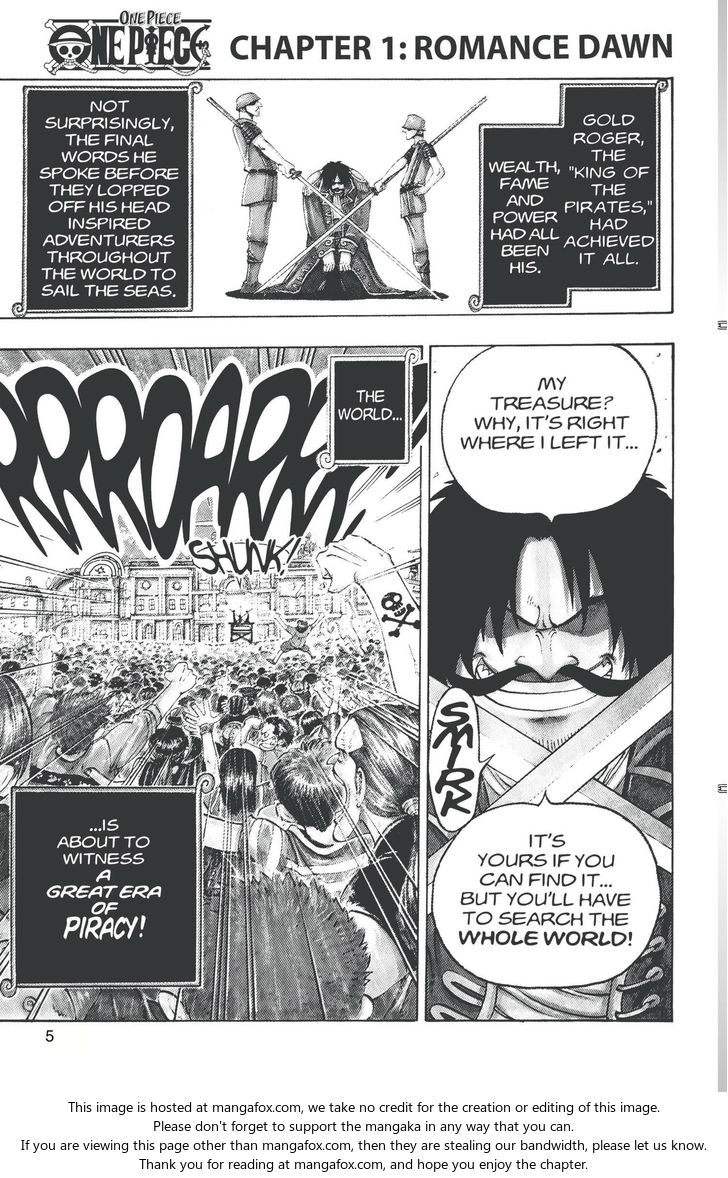bubble: (432, 792, 663, 988), (442, 344, 657, 523), (24, 85, 191, 312), (13, 789, 199, 987), (562, 85, 659, 288), (481, 125, 566, 306), (332, 358, 407, 463)
